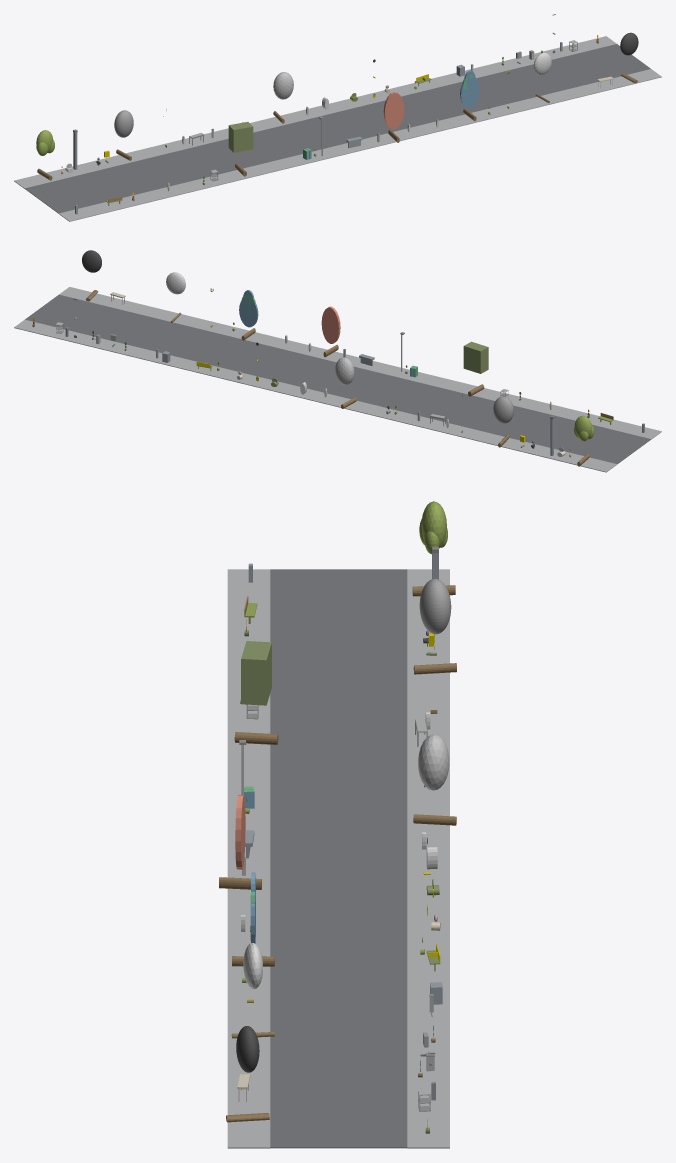
3 renders of one model, top to bottom at view 1: azimuth 30°, elevation 25°; view 2: azimuth 150°, elevation 25°; view 3: azimuth 270°, elevation 25°, orthographic. The views are drawn at different scales.
Parts seen in each view (by area): view 1: road_slab, sidewalk_left, sidewalk_right, inst_0020, inst_0022, inst_0023, inst_0021, inst_0019, inst_0018, inst_0025, inst_0024; view 2: road_slab, sidewalk_right, sidewalk_left, inst_0020, inst_0022, inst_0023, inst_0019, inst_0021, inst_0018, inst_0025, inst_0024; view 3: road_slab, sidewalk_right, sidewalk_left, inst_0020, inst_0021, inst_0019, inst_0018, inst_0025, inst_0022.
Part boxes in pixels (bbox=[...]): road_slab: bbox=[24, 44, 650, 213]; sidewalk_left: bbox=[59, 69, 661, 221]; sidewalk_right: bbox=[14, 36, 616, 188]; inst_0020: bbox=[228, 122, 253, 176]; inst_0022: bbox=[383, 92, 404, 142]; inst_0023: bbox=[460, 70, 479, 121]; inst_0021: bbox=[273, 72, 293, 123]; inst_0019: bbox=[114, 110, 133, 160]; inst_0018: bbox=[36, 130, 54, 180]; inst_0025: bbox=[620, 32, 638, 83]; inst_0024: bbox=[533, 52, 551, 102]; road_slab: bbox=[25, 294, 651, 464]; sidewalk_right: bbox=[14, 319, 616, 472]; sidewalk_left: bbox=[59, 287, 661, 439]; inst_0020: bbox=[463, 341, 488, 396]; inst_0022: bbox=[321, 306, 340, 357]; inst_0023: bbox=[239, 290, 258, 340]; inst_0019: bbox=[493, 396, 513, 447]; inst_0021: bbox=[335, 357, 356, 408]; inst_0018: bbox=[574, 415, 594, 466]; inst_0025: bbox=[82, 250, 101, 301]; inst_0024: bbox=[166, 272, 185, 322]; road_slab: bbox=[270, 569, 407, 1148]; sidewalk_right: bbox=[407, 569, 449, 1148]; sidewalk_left: bbox=[227, 569, 270, 1148]; inst_0020: bbox=[234, 641, 278, 744]; inst_0021: bbox=[413, 734, 456, 825]; inst_0019: bbox=[413, 578, 456, 674]; inst_0018: bbox=[412, 501, 455, 596]; inst_0025: bbox=[226, 1026, 269, 1122]; inst_0022: bbox=[219, 795, 261, 889].
Size of the model in its own units: 80 by 6.08 by 13.93.
